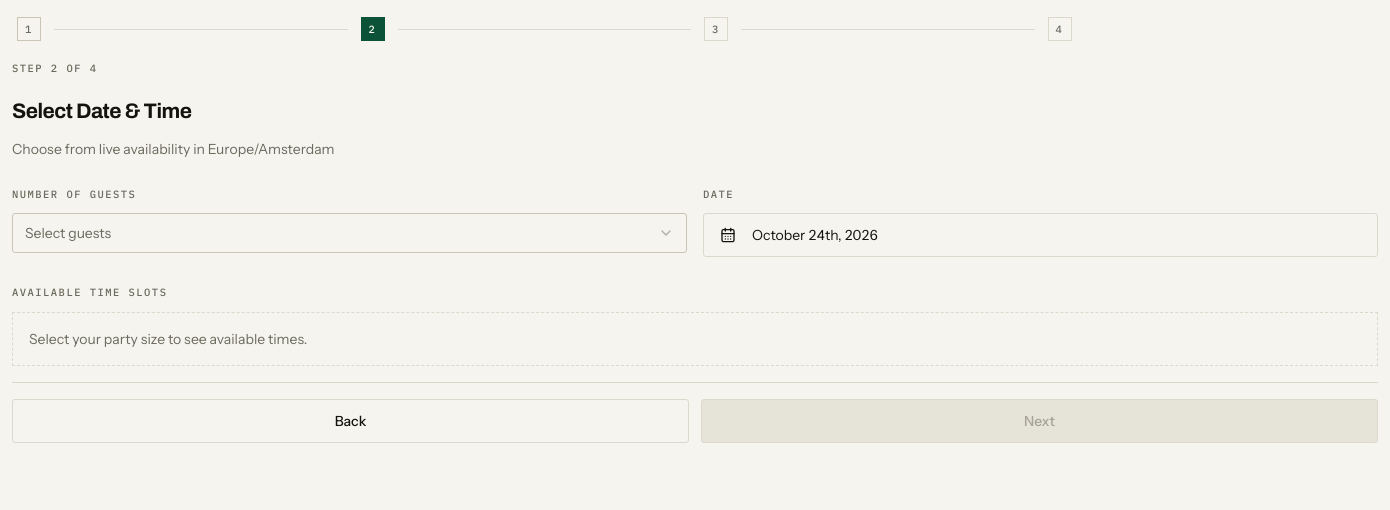
Scenario: ReservationForm availability › renders server-returned slots after the guest selects a party size
Click the dropdown named "Number of Guests".
click(68, 233)  # box left=12, top=214, right=687, bottom=254
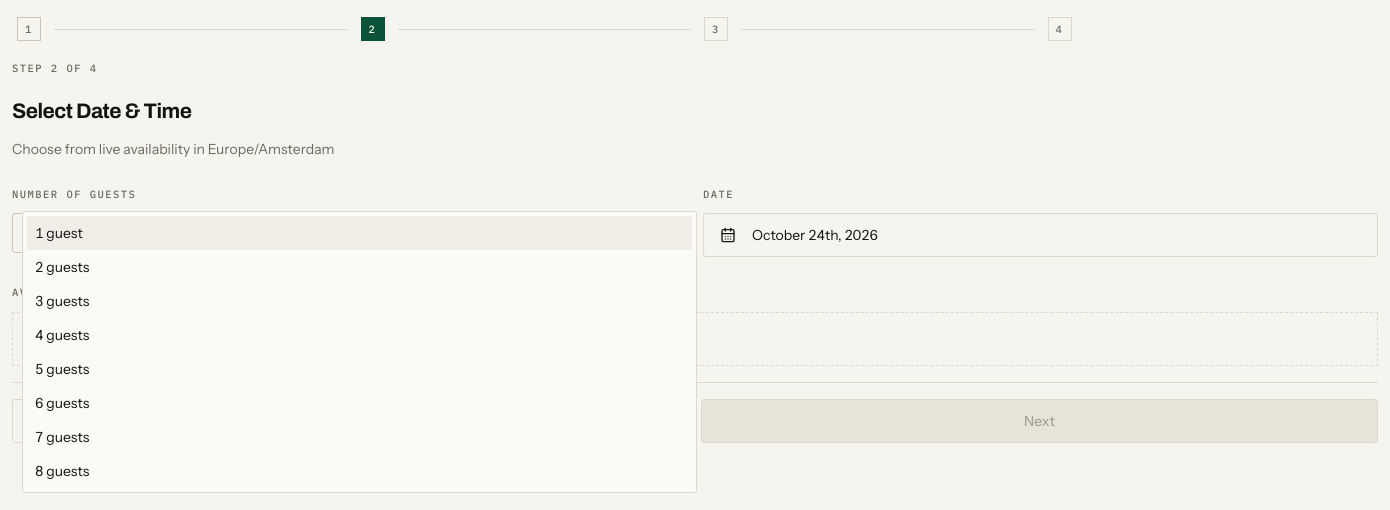
Click the option "2 guests".
click(62, 267)  # box left=35, top=258, right=89, bottom=276
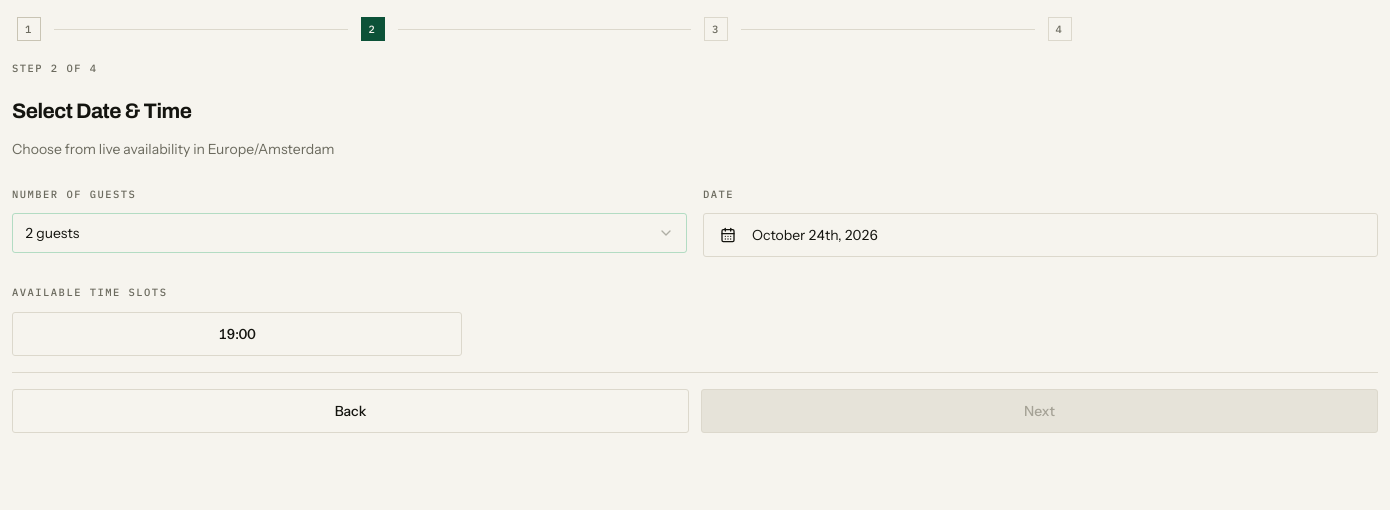
Result: the button "19:00" is shown at left=12, top=312, right=462, bottom=356
